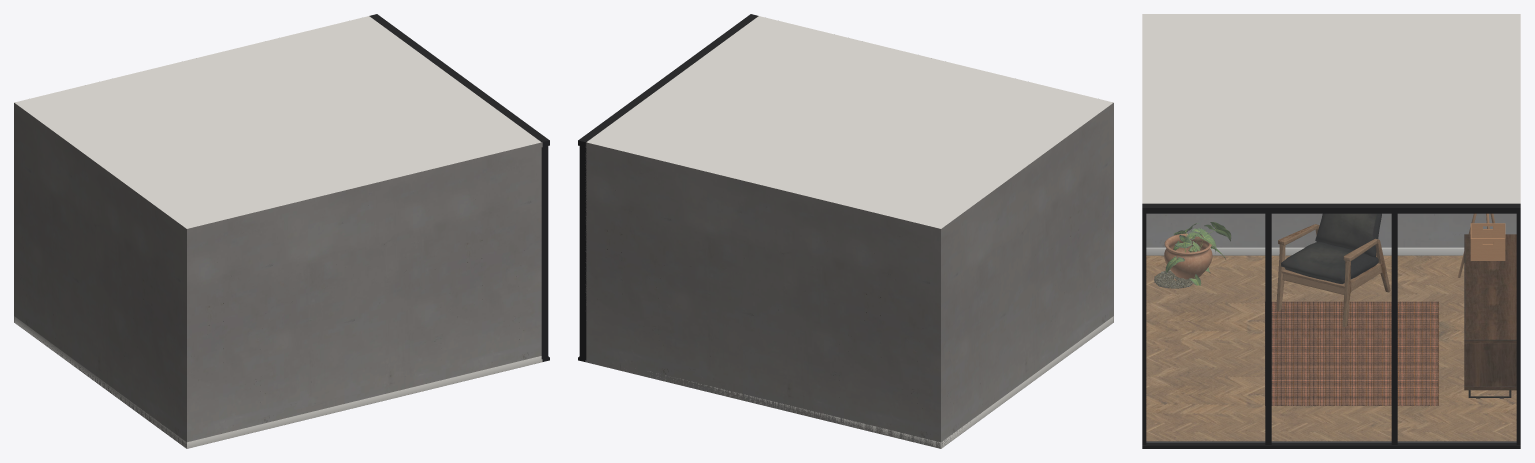
The model's file is room.glb.
3 views of the same model, side by side, from view 1: azimuth 30°, elevation 25°; view 2: azimuth 150°, elevation 25°; view 3: azimuth 270°, elevation 25° (orthographic). The views are drawn at different scales.
Parts seen in each view (by area): view 1: Wall_Front, Ceiling, Wall_Left, Skirting_Front, Glazing_Mullion_0, Glazing_Head, Skirting_Left; view 2: Wall_Back, Ceiling, Wall_Left, Glazing_Mullion_3, Glazing_Head, Skirting_Left, Skirting_Back; view 3: Window_Glass, Ceiling, Floor, Rug, Wall_Left, modern_wooden_cabinet_body, modern_arm_chair_01, Glazing_Head, Glazing_Sill, Glazing_Mullion_1, Glazing_Mullion_2, Skirting_Left (+6 smaller).
Part boxes in pixels (x1,y1,x2,y2): Wall_Front: (187,142,542,448); Ceiling: (14,16,541,228); Wall_Left: (14,103,186,448); Skirting_Front: (186,356,542,448); Glazing_Mullion_0: (541,146,548,359); Glazing_Head: (369,14,549,146); Skirting_Left: (14,316,186,447); Wall_Back: (585,142,940,448); Ceiling: (586,16,1113,228); Wall_Left: (941,103,1113,448); Glazing_Mullion_3: (579,146,586,359); Glazing_Head: (578,14,758,147); Skirting_Left: (940,316,1113,448); Skirting_Back: (630,371,941,448); Window_Glass: (1146,214,1516,442); Ceiling: (1142,14,1520,203); Floor: (1146,255,1516,441); Rug: (1265,301,1438,405); Wall_Left: (1146,213,1516,247); modern_wooden_cabinet_body: (1464,234,1516,398); modern_arm_chair_01: (1276,213,1390,327); Glazing_Head: (1142,203,1520,213); Glazing_Sill: (1142,441,1520,448); Glazing_Mullion_1: (1265,213,1271,444); Glazing_Mullion_2: (1391,213,1397,444); Skirting_Left: (1146,247,1464,255).
Bounding box in the file's own units: 4.49 × 2.7 × 3.7.
17 materials, 9 textured.
